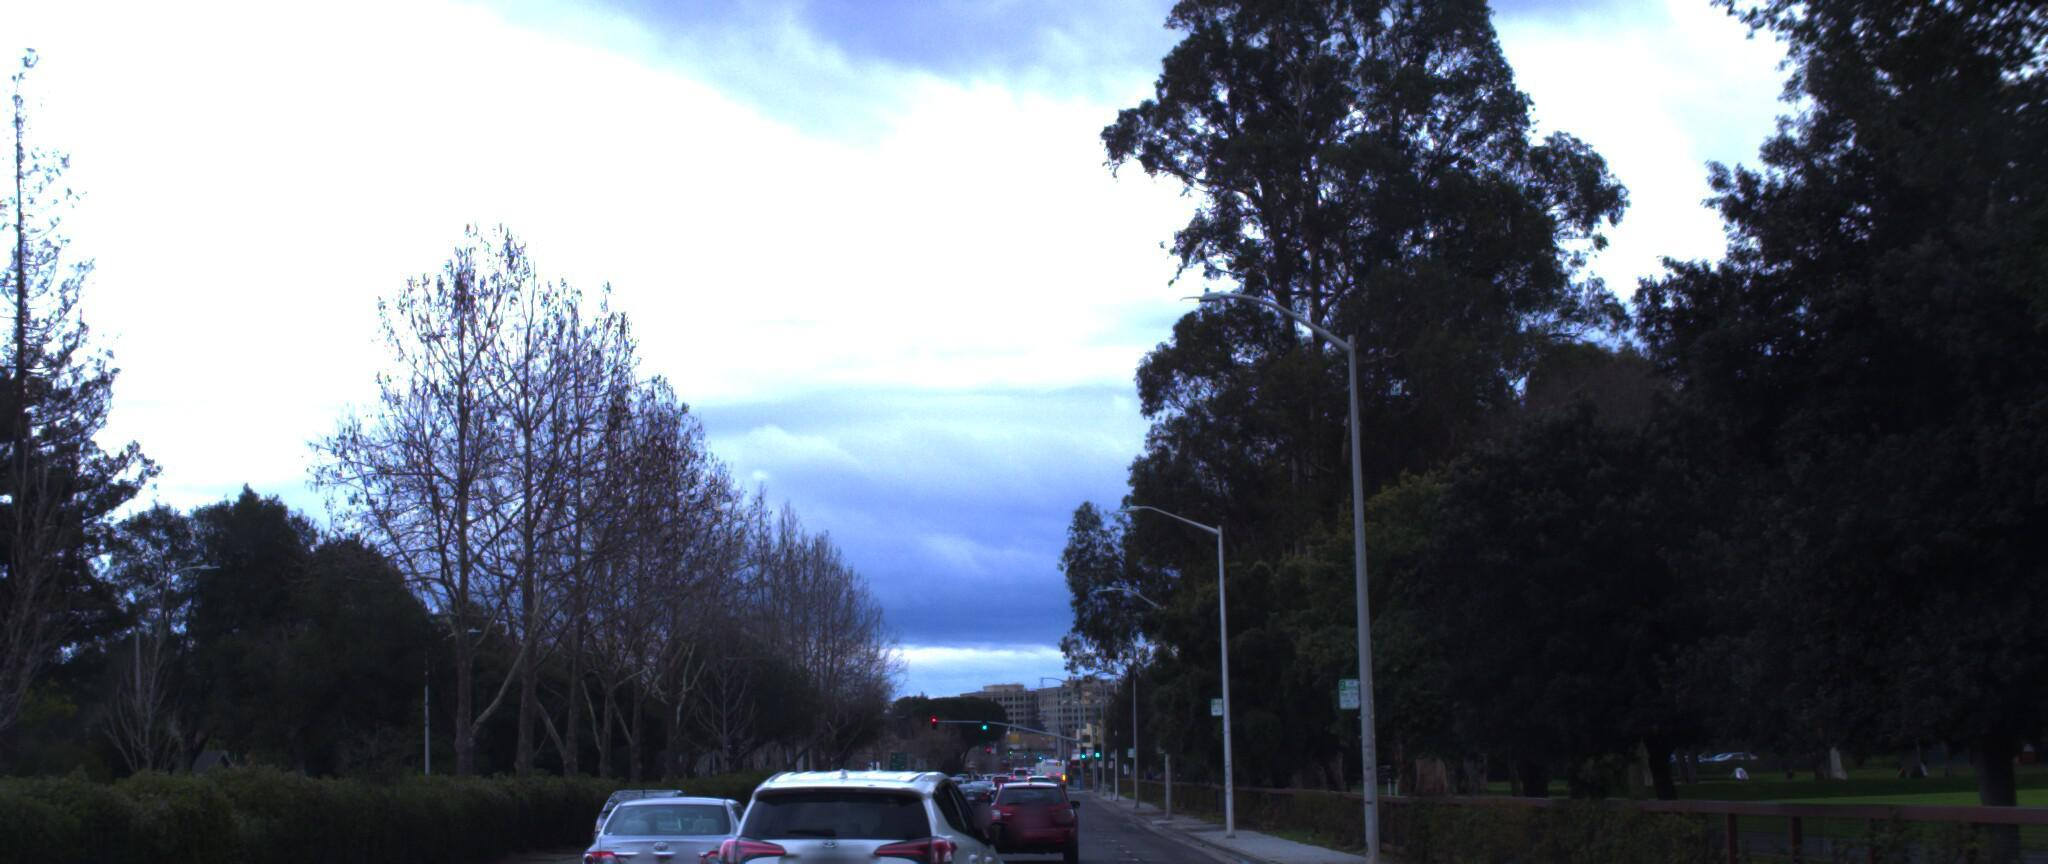car: (680, 743, 1012, 864), (575, 779, 790, 864), (970, 780, 1068, 864), (0, 790, 40, 864)
